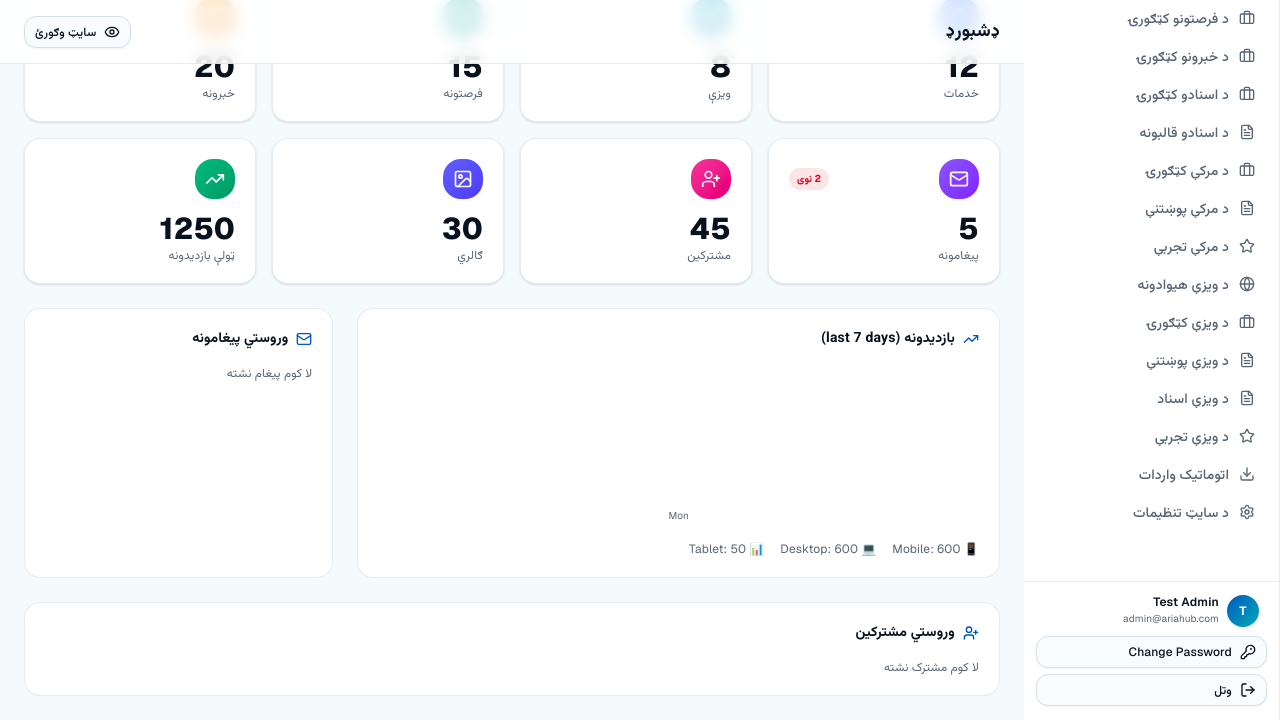
Test case: Settings Panel Unit Tests › Button Labels - Requirement 7.6 › renders Save Settings button with Pashto translation
The width and height of the screenshot is (1280, 720).
(page scrolled)
Expected: the text "د سایټ تنظیمات" is shown, [1133,502,1229,522]
Step 1. Click the button "د سایټ تنظیمات" → (1152, 512), box [1036,494,1267,530]
(page scrolled)
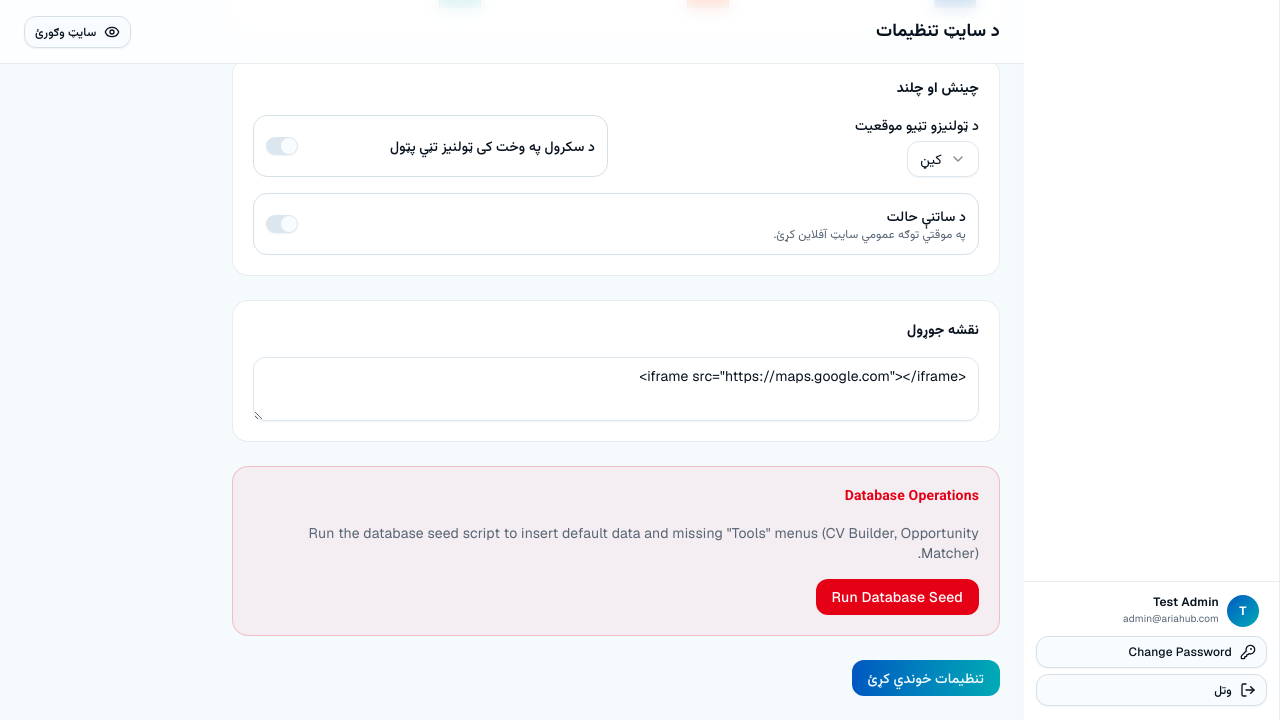
Expected: the button "تنظیمات خوندي کړئ" is shown, [852,660,1000,696]
